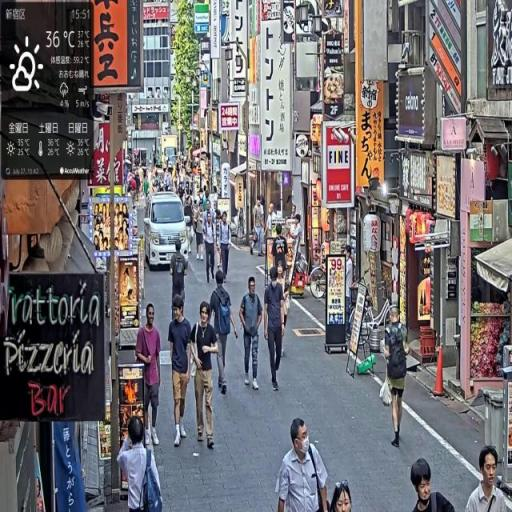person: (277, 419, 330, 512), (117, 412, 165, 512), (191, 302, 223, 450), (383, 303, 412, 452), (136, 303, 165, 448), (169, 295, 196, 448), (209, 267, 236, 397), (263, 268, 288, 396), (464, 445, 511, 512), (239, 275, 265, 394), (410, 458, 458, 512), (171, 238, 190, 315), (204, 207, 218, 286), (220, 210, 232, 283)
